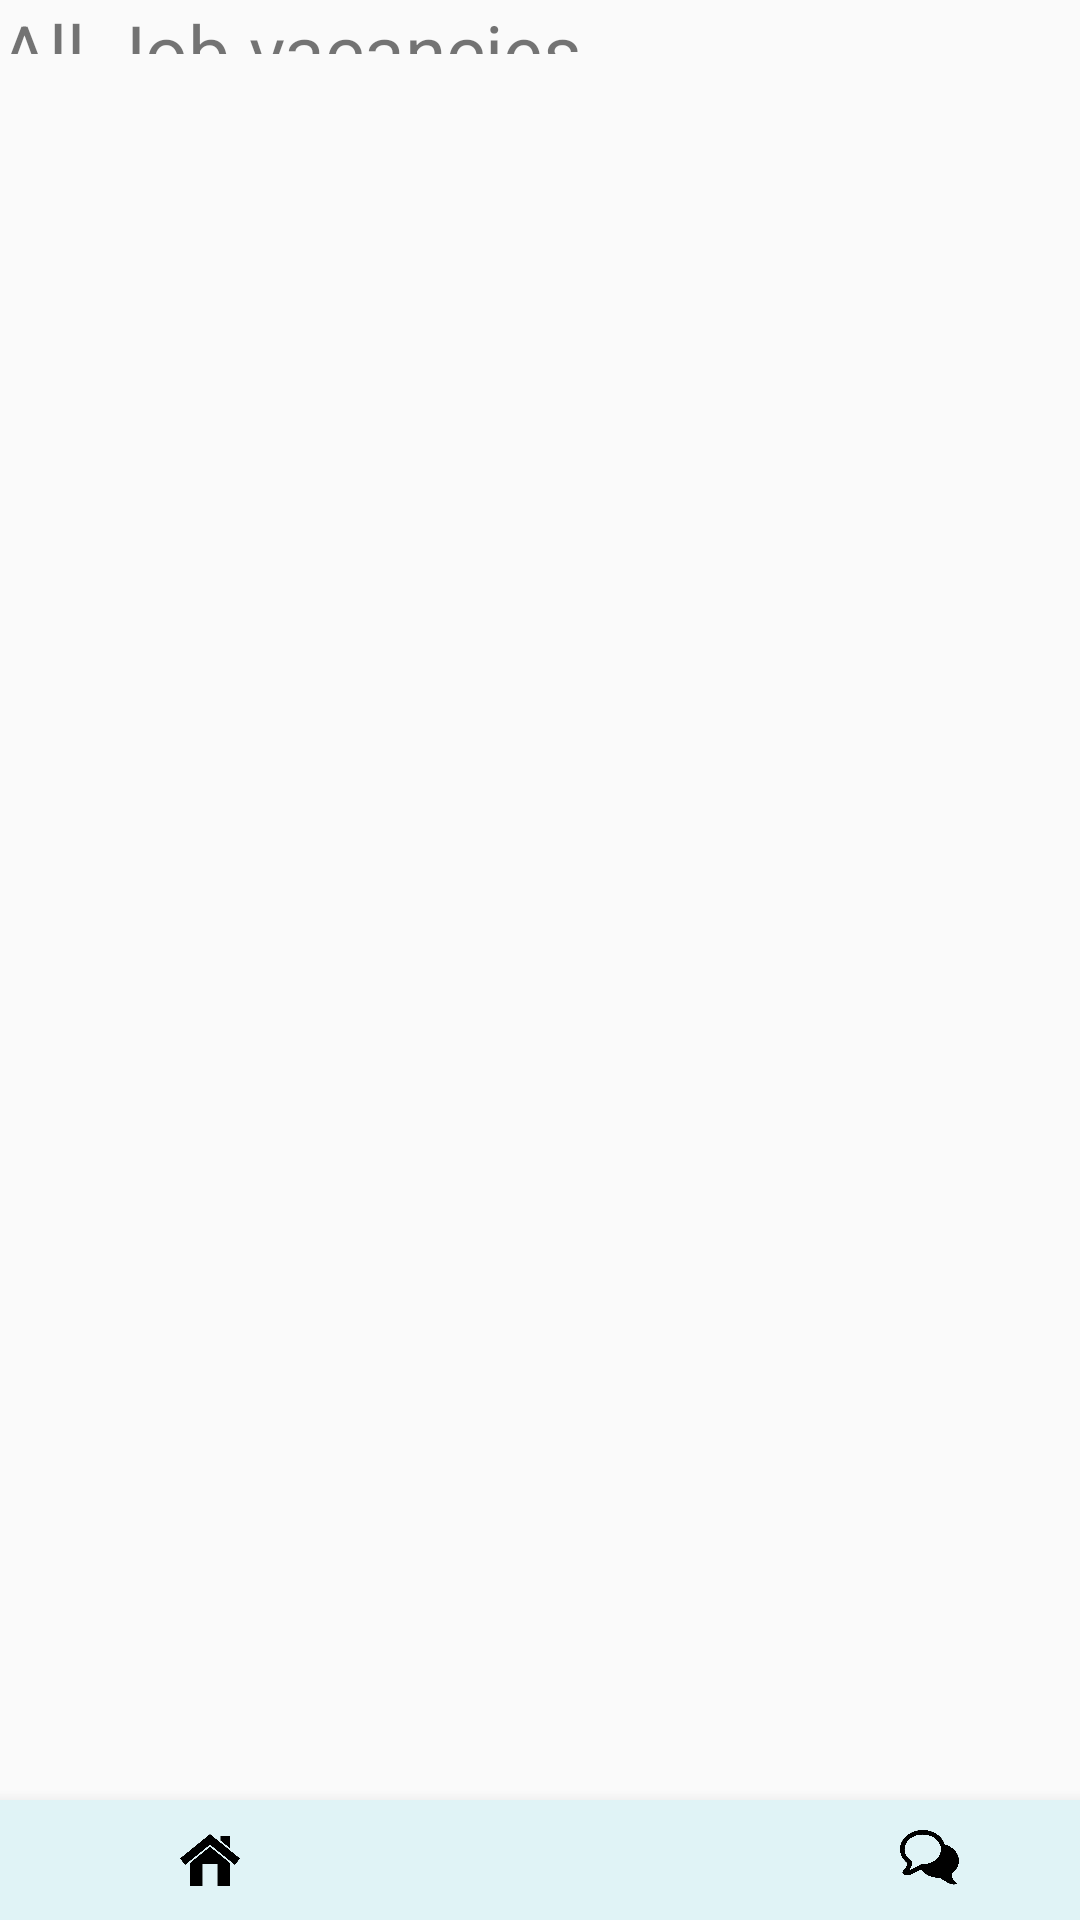

Named icons in this screenshot (1080px x 1920px) and their centers, point (x, y):
chat: point (929, 1857)
home: point (210, 1860)
